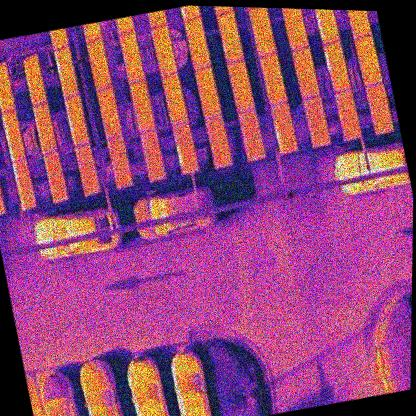Diode: (322, 40, 353, 93), (172, 121, 200, 174), (270, 102, 299, 153), (64, 94, 91, 146), (54, 46, 80, 99), (11, 158, 37, 209), (1, 108, 26, 161), (311, 9, 339, 43)
Hotspot: (217, 10, 245, 65)
Normal: (237, 108, 268, 162), (193, 65, 223, 120), (301, 95, 332, 148), (161, 71, 190, 127), (364, 81, 394, 135), (139, 128, 168, 183), (204, 114, 233, 169), (226, 58, 255, 113), (291, 45, 320, 100), (183, 16, 212, 71), (105, 135, 134, 189), (333, 89, 363, 141), (259, 52, 287, 107), (32, 100, 59, 157), (354, 34, 384, 85), (128, 79, 156, 133), (150, 23, 178, 77), (95, 86, 123, 139), (42, 149, 69, 203), (118, 30, 145, 84), (248, 7, 277, 57), (85, 39, 112, 91), (76, 143, 101, 197), (22, 54, 47, 107), (279, 8, 309, 51), (0, 62, 16, 114), (342, 10, 370, 37)
